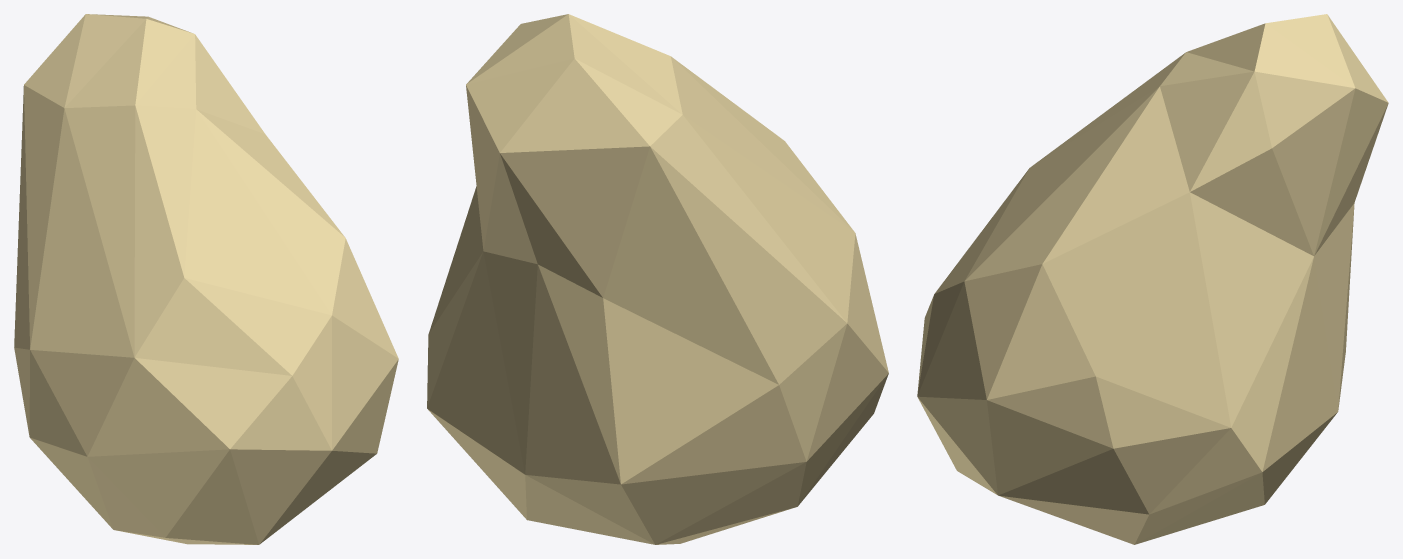
File: Rock (72).fbx
3 views of the same model, side by side, from view 1: azimuth 30°, elevation 25°; view 2: azimuth 150°, elevation 25°; view 3: azimuth 270°, elevation 25° (orthographic). The views are drawn at different scales.
Parts seen in each view (by area): view 1: Asteroid71; view 2: Asteroid71; view 3: Asteroid71.
Part boxes in pixels (<box>): Asteroid71: <box>14,14,398,544</box>; Asteroid71: <box>427,14,888,544</box>; Asteroid71: <box>917,14,1388,544</box>.
Bounding box in the file's own units: 45.26 × 63.33 × 51.9.
